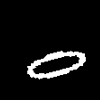chain: (28, 51, 85, 78)
